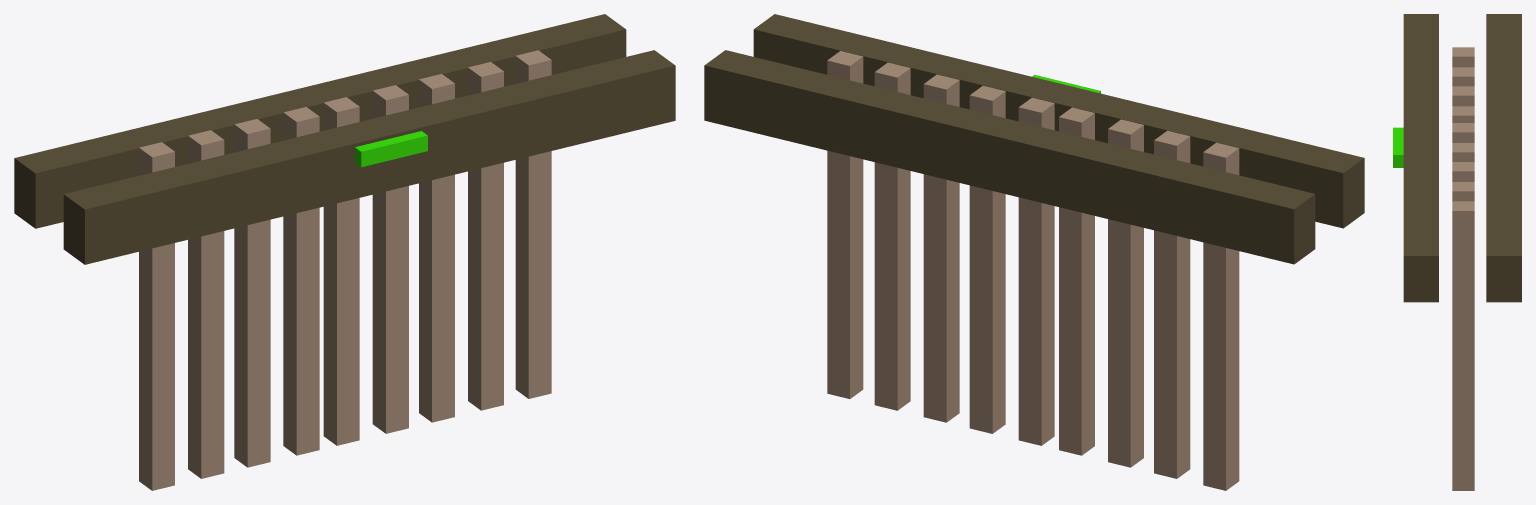
File: sm_gate2.fbx
The picture shows the model from 3 angles, left to right: view 1: azimuth 30°, elevation 25°; view 2: azimuth 150°, elevation 25°; view 3: azimuth 270°, elevation 25°; orthographic projection. The views are drawn at different scales.
Visible parts, largest first — view 1: sm_GATE2_BODY, sm_GATE2_HOLDER, sm_GATE2_COLOR; view 2: sm_GATE2_BODY, sm_GATE2_HOLDER; view 3: sm_GATE2_HOLDER, sm_GATE2_BODY, sm_GATE2_COLOR.
Part boxes in pixels (x1,y1,x2,y2): sm_GATE2_BODY: (139, 50, 551, 490); sm_GATE2_HOLDER: (14, 14, 675, 264); sm_GATE2_COLOR: (355, 131, 427, 167); sm_GATE2_BODY: (827, 51, 1239, 490); sm_GATE2_HOLDER: (704, 14, 1364, 264); sm_GATE2_HOLDER: (1403, 14, 1521, 302); sm_GATE2_BODY: (1452, 47, 1474, 490); sm_GATE2_COLOR: (1393, 127, 1403, 167).
Bounding box in the file's own units: 1134 × 612 × 255.
